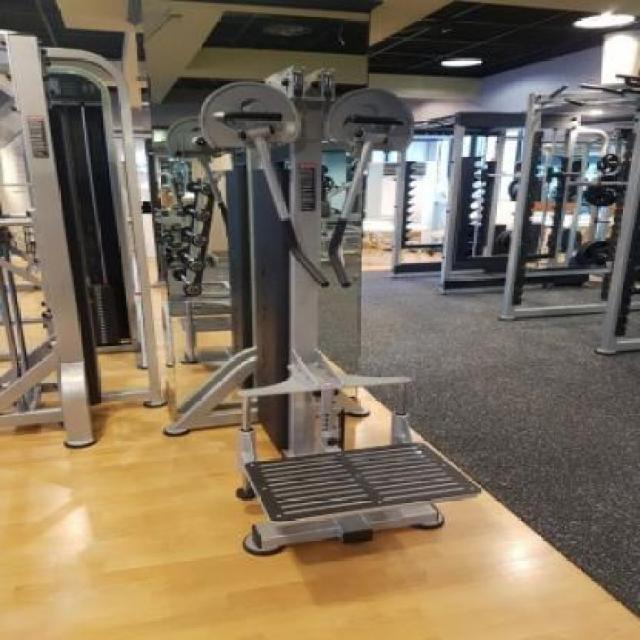lateral raises machine: (200, 68, 482, 558)
